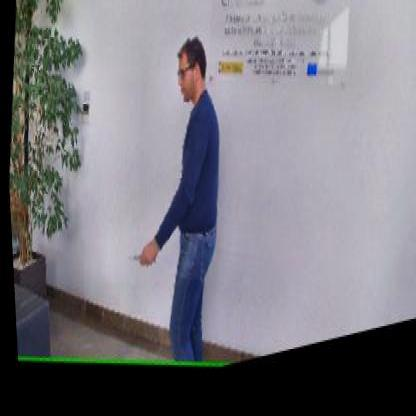knife: (119, 246, 154, 281)
